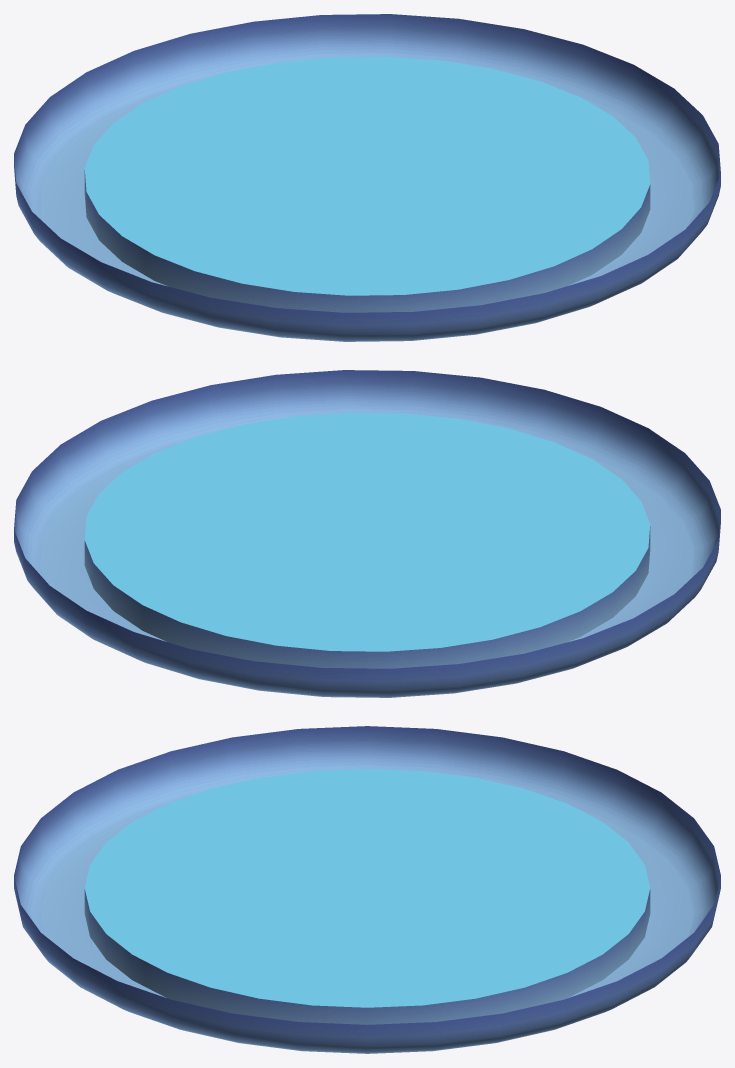
File: sm_futuristic_roundbluelight.fbx
3 views of the same model, one above another, from view 1: azimuth 30°, elevation 25°; view 2: azimuth 150°, elevation 25°; view 3: azimuth 270°, elevation 25° (orthographic).
Visible parts, largest first — view 1: sm_futuristic_roundbluelight; view 2: sm_futuristic_roundbluelight; view 3: sm_futuristic_roundbluelight.
Boxes of the visible parts, left/top/right/bottom form: sm_futuristic_roundbluelight: left=14, top=14, right=720, bottom=341; sm_futuristic_roundbluelight: left=14, top=370, right=720, bottom=697; sm_futuristic_roundbluelight: left=14, top=726, right=720, bottom=1053.
Bounding box in the file's own units: 250 × 250 × 15.
